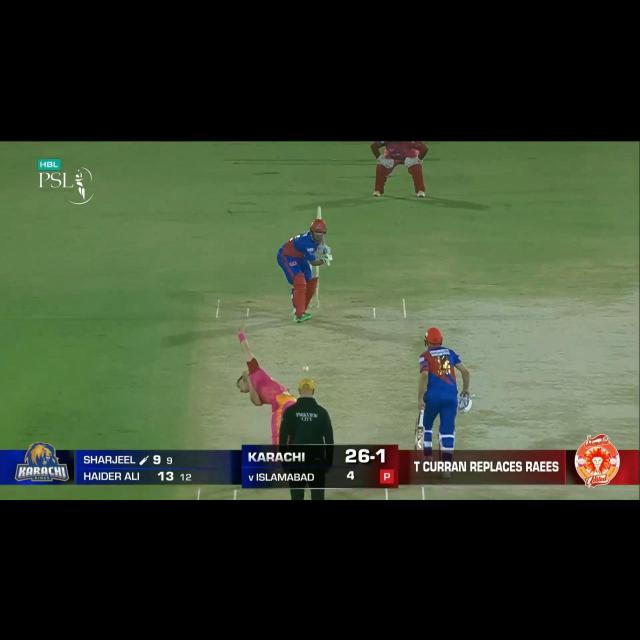bat: (313, 200, 330, 258), (412, 422, 423, 451)
toe: (314, 204, 324, 222)
